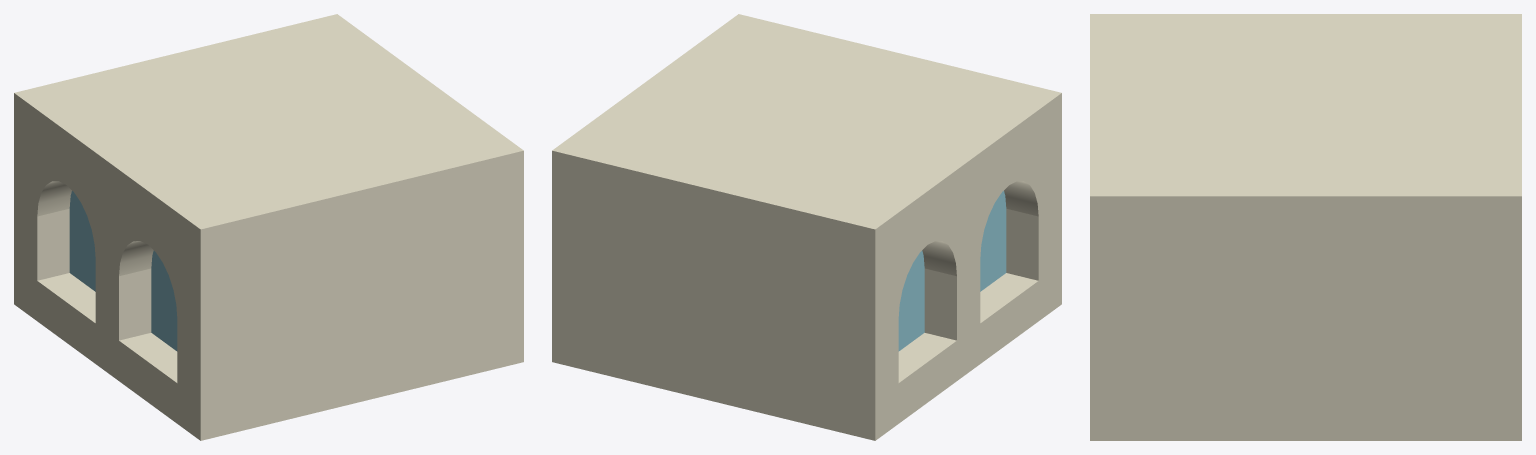
File: floor2.obj
The picture shows the model from 3 angles, left to right: view 1: azimuth 30°, elevation 25°; view 2: azimuth 150°, elevation 25°; view 3: azimuth 270°, elevation 25°; orthographic projection. The views are drawn at different scales.
Visible parts, largest first — view 1: floor2; view 2: floor2; view 3: floor2.
Boxes of the visible parts, x1,y1,x2,y2 form: floor2: [14, 14, 523, 440]; floor2: [552, 14, 1061, 440]; floor2: [1090, 14, 1521, 440].
Size of the model in its own units: 1 by 0.625 by 1.
